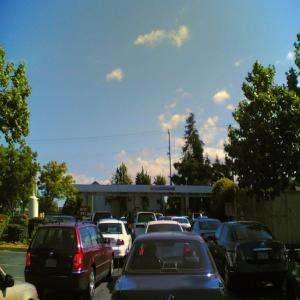Vehicle-registration-plate: (258, 250, 269, 261), (47, 260, 57, 270)
